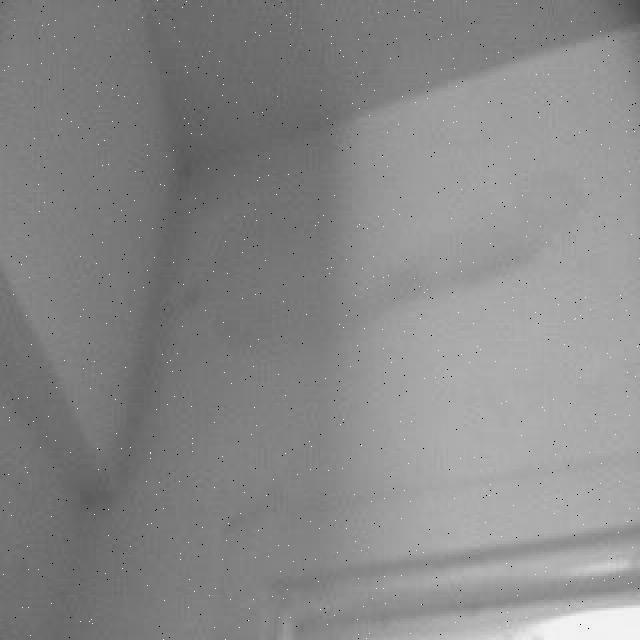stain marks: (358, 153, 580, 340), (172, 232, 356, 352)
